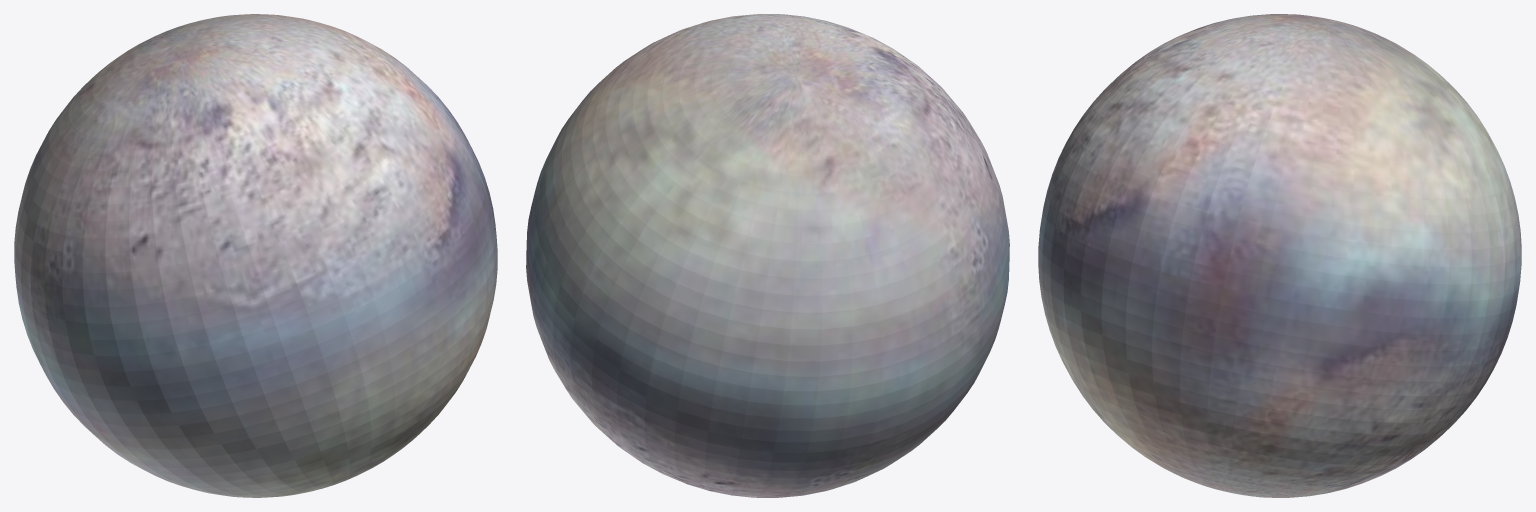
Rendered from triton.obj.
3 renders of one model, left to right at view 1: azimuth 30°, elevation 25°; view 2: azimuth 150°, elevation 25°; view 3: azimuth 270°, elevation 25°, orthographic.
Parts seen in each view (by area): view 1: Plane; view 2: Plane; view 3: Plane.
Part boxes in pixels (x1,y1,x2,y2): Plane: [14, 14, 497, 497]; Plane: [526, 14, 1009, 497]; Plane: [1038, 14, 1521, 497].
Bounding box in the file's own units: 2.61 × 2.61 × 2.61.
1 material, 1 textured.
